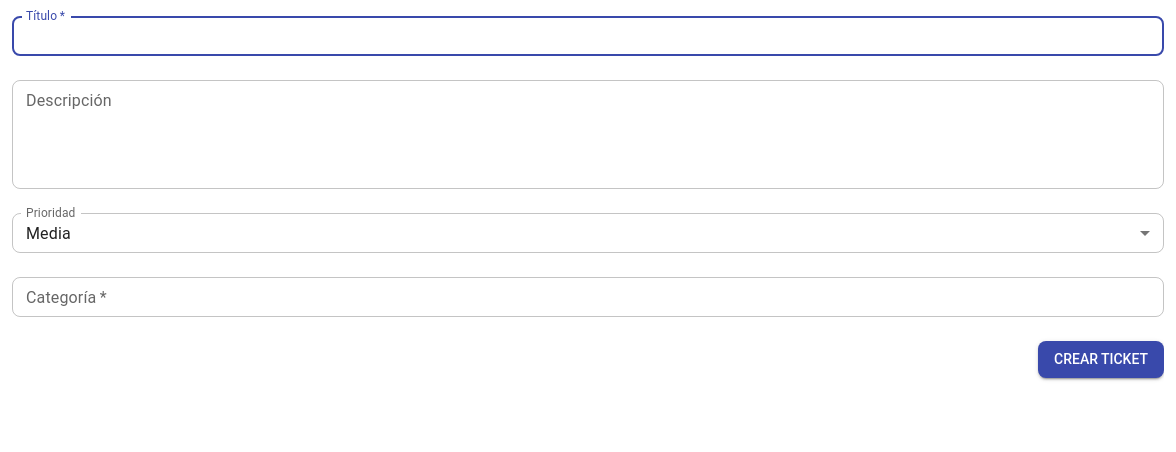
TicketForm › no envía y muestra errores si faltan campos obligatorios
The image size is (1176, 452).
Click the button "Crear ticket" at coordinates (1101, 359), box [1038, 341, 1164, 378]
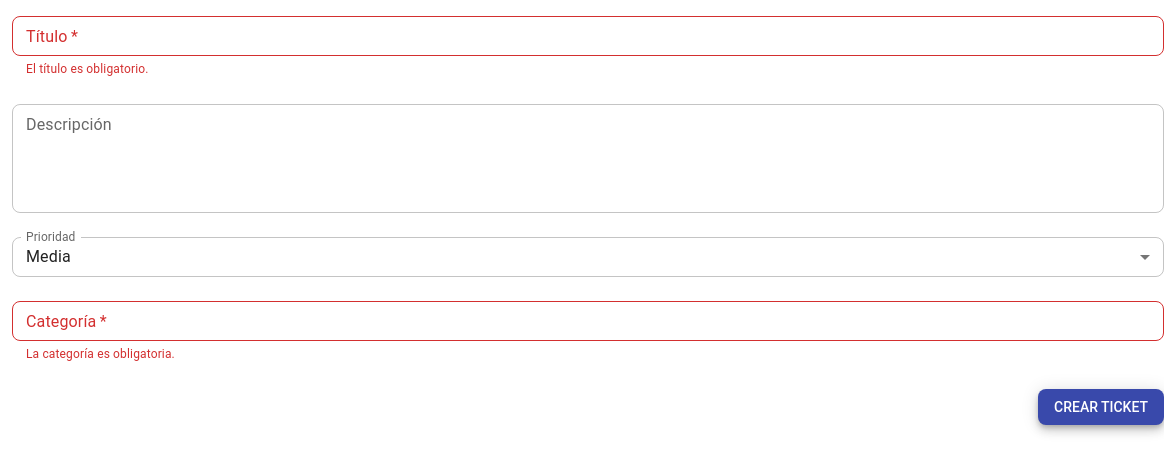
Now the text "El título es obligatorio." is shown, box [26, 62, 148, 76]
